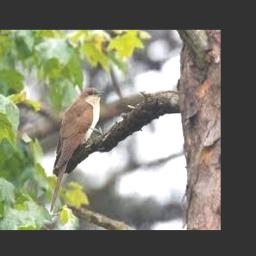Cuckoo: (50, 87, 105, 214)
